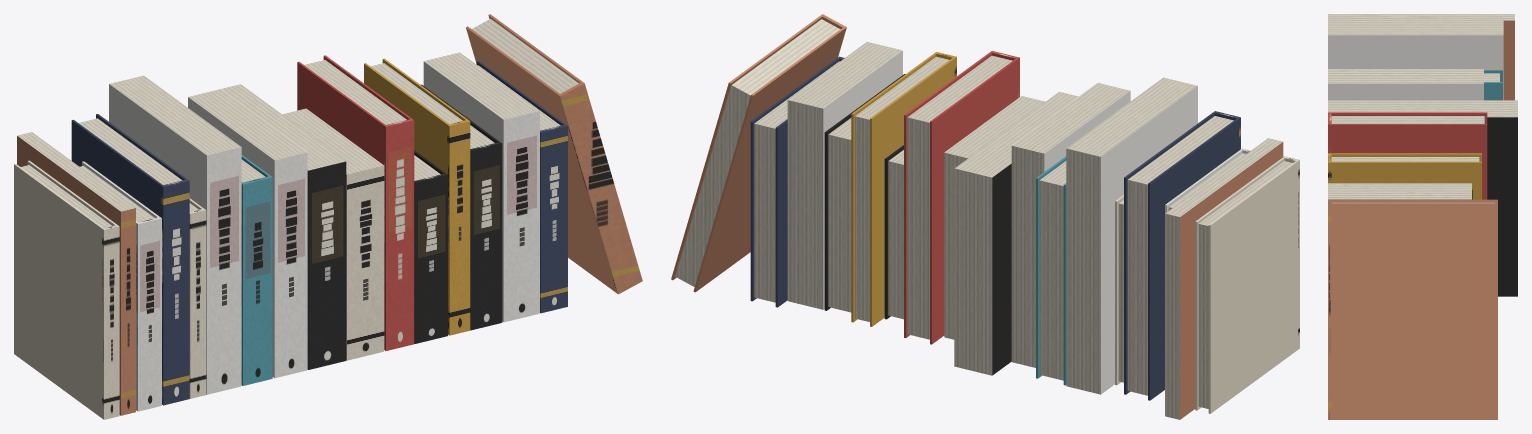
The model's file is books_row.glb.
The picture shows the model from 3 angles, left to right: view 1: azimuth 30°, elevation 25°; view 2: azimuth 150°, elevation 25°; view 3: azimuth 270°, elevation 25°; orthographic projection. The views are drawn at different scales.
Visible parts, largest first — view 1: books_row_books, books_row_leaning_book; view 2: books_row_books, books_row_leaning_book; view 3: books_row_leaning_book, books_row_books.
Part boxes in pixels (x1,y1,x2,y2): books_row_books: [14, 52, 567, 419]; books_row_leaning_book: [466, 14, 642, 294]; books_row_books: [750, 41, 1299, 419]; books_row_leaning_book: [671, 14, 846, 292]; books_row_leaning_book: [1328, 199, 1497, 419]; books_row_books: [1328, 14, 1517, 296].
Bounding box in the file's own units: 0.5925 × 0.2516 × 0.2012.
17 materials, 9 textured.
